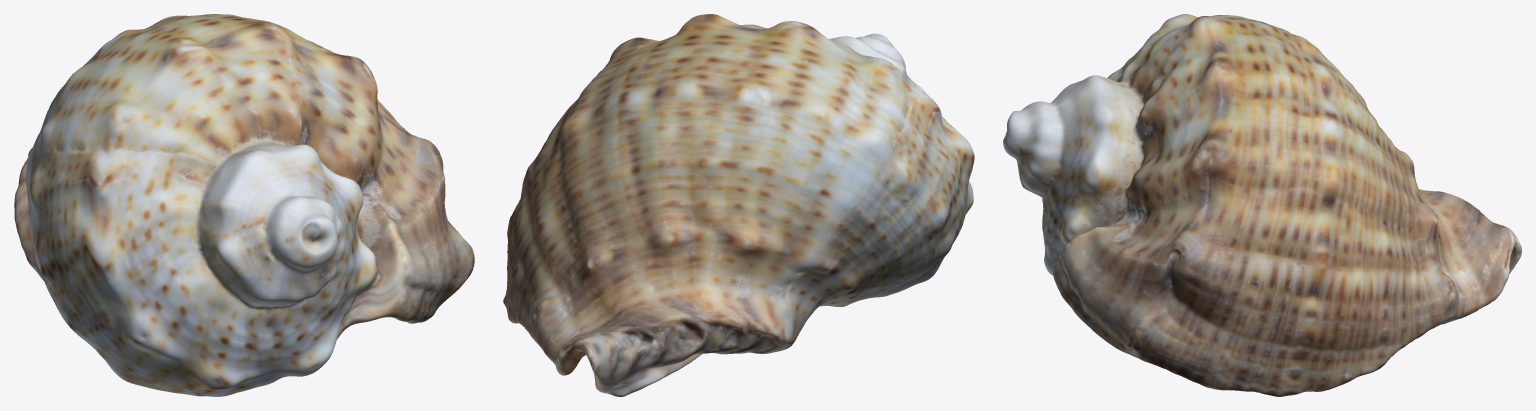
File: shelljpg.glb
3 renders of one model, left to right at view 1: azimuth 30°, elevation 25°; view 2: azimuth 150°, elevation 25°; view 3: azimuth 270°, elevation 25°, orthographic. The views are drawn at different scales.
Parts seen in each view (by area): view 1: Mesh; view 2: Mesh; view 3: Mesh.
Boxes of the visible parts, x1,y1,x2,y2 form: Mesh: (14,14,474,396); Mesh: (503,14,974,396); Mesh: (1003,14,1521,396).
Bounding box in the file's own units: 0.1388 × 0.0989 × 0.1724.
1 material, 1 textured.
